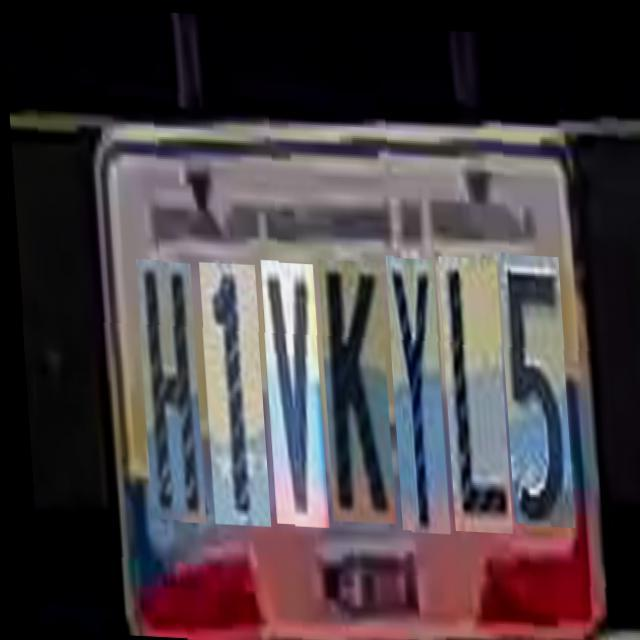1: (194, 258, 264, 522)
5: (493, 242, 568, 515)
H: (132, 258, 200, 520)
K: (313, 252, 389, 517)
L: (434, 246, 506, 524)
V: (256, 256, 322, 522)
Y: (381, 248, 443, 524)
